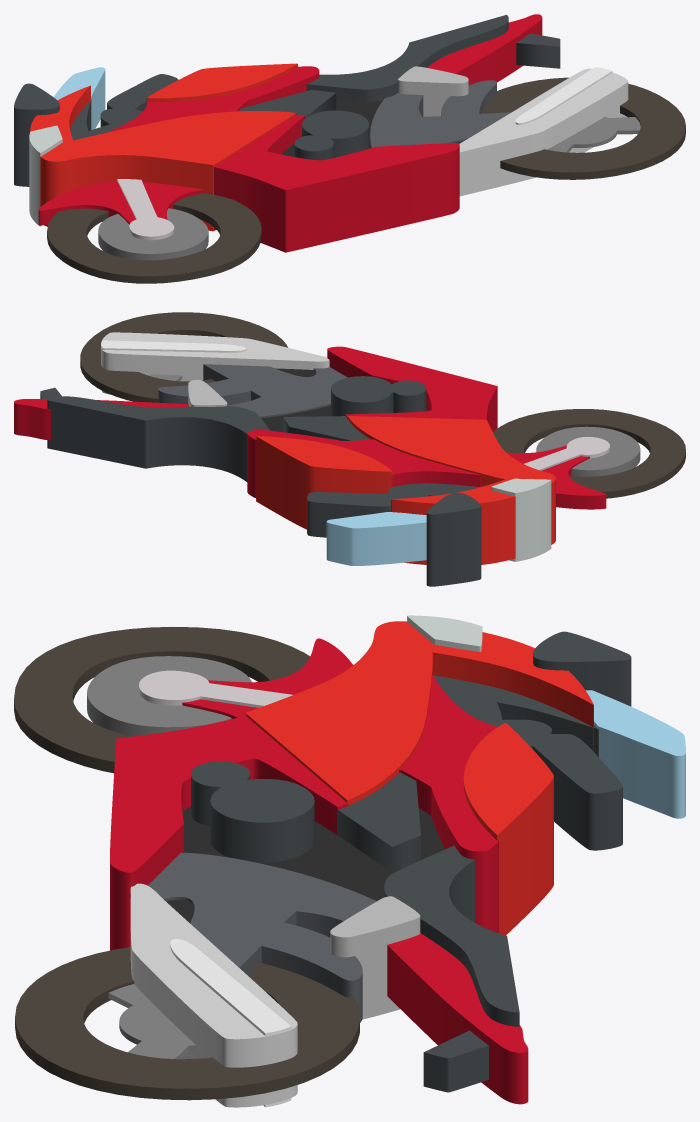
The model's file is emoji_u1f3cd.glb.
3 renders of one model, top to bottom at view 1: azimuth 30°, elevation 25°; view 2: azimuth 150°, elevation 25°; view 3: azimuth 270°, elevation 25°, orthographic. The views are drawn at different scales.
Visible parts, largest first — view 1: emoji_u1f3cd; view 2: emoji_u1f3cd; view 3: emoji_u1f3cd.
Boxes of the visible parts, x1,y1,x2,y2 form: emoji_u1f3cd: (14,14,685,283); emoji_u1f3cd: (14,312,685,586); emoji_u1f3cd: (14,615,685,1107).
Bounding box in the file's own units: 0.0348 × 0.0042 × 0.0214.
